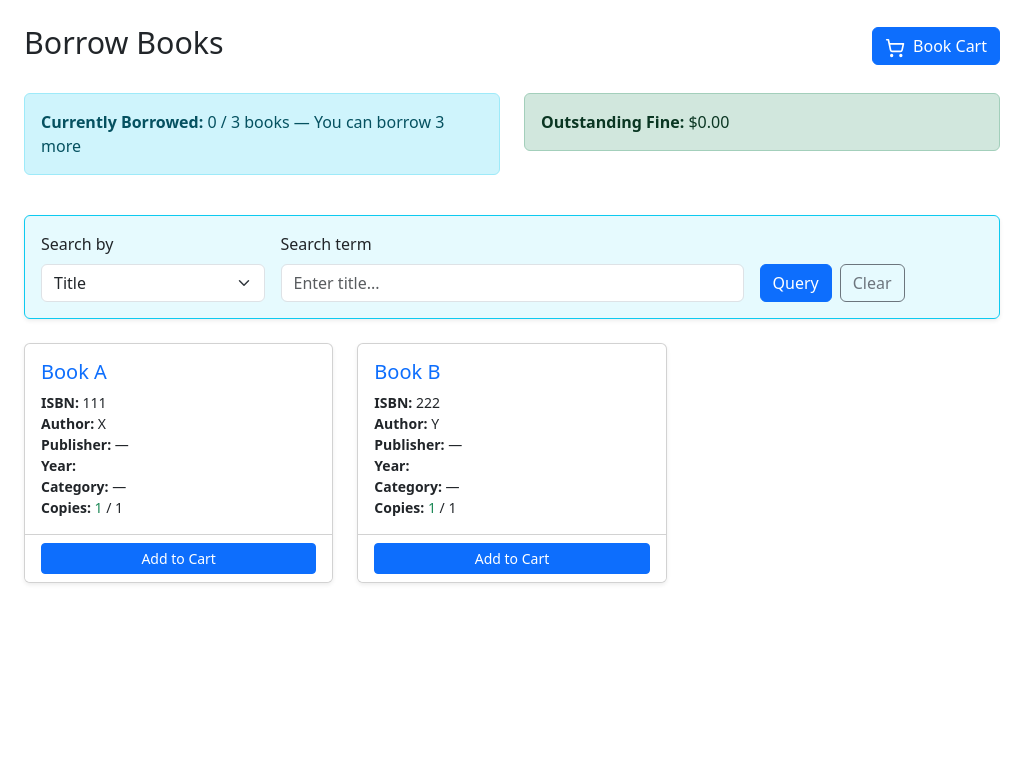
it: BorrowBooks › member borrows 2 books and removes 1 successfully from cart
Add both books
Click the button "Add to Cart" below "111". click: (179, 558)
box: [41,542,316,574]
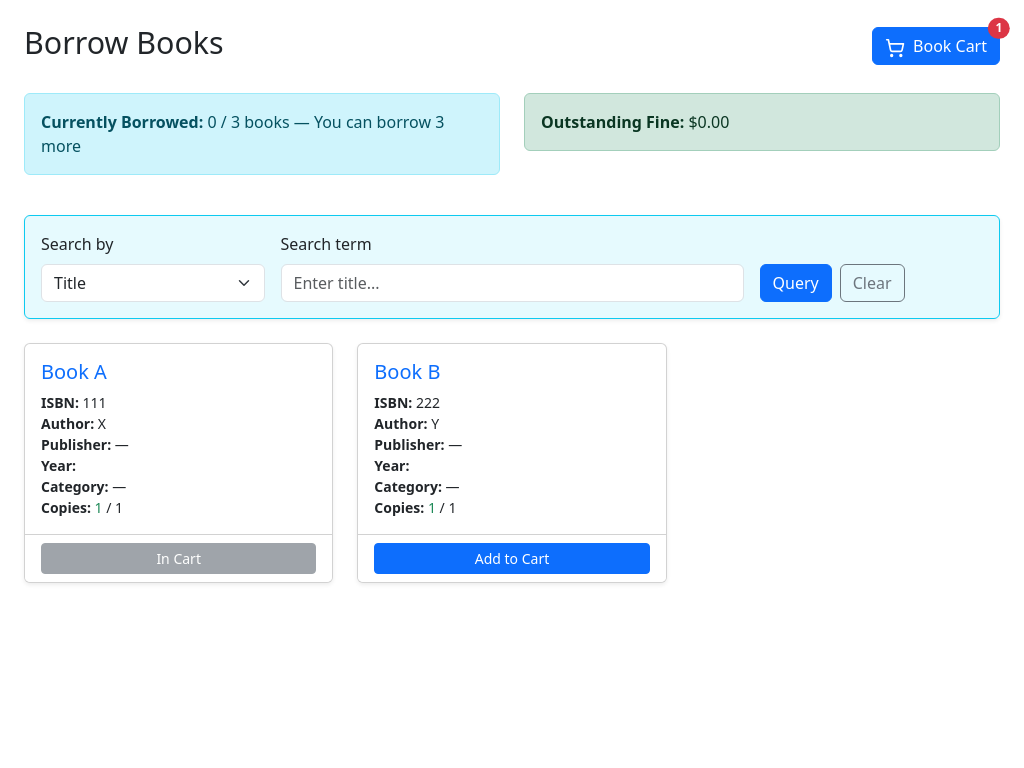
Click the button "Add to Cart". click: (512, 558)
box: [374,542,650,574]
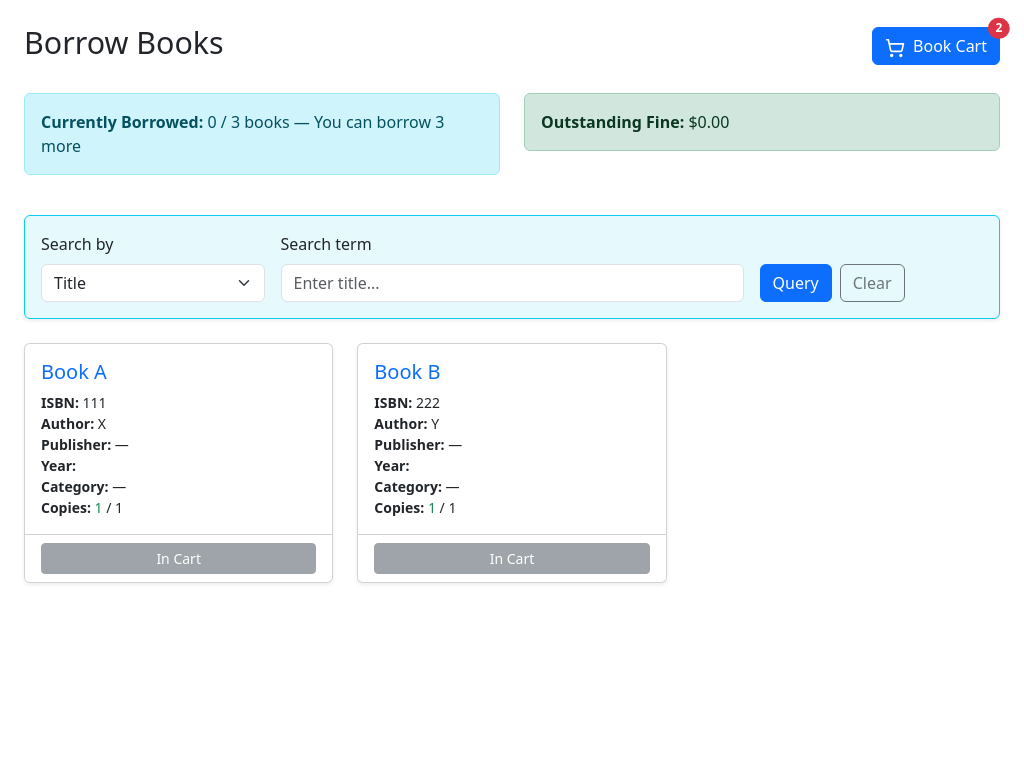
Open cart
Click the button "Book Cart 2". click: (936, 46)
box: [872,27,1000,65]
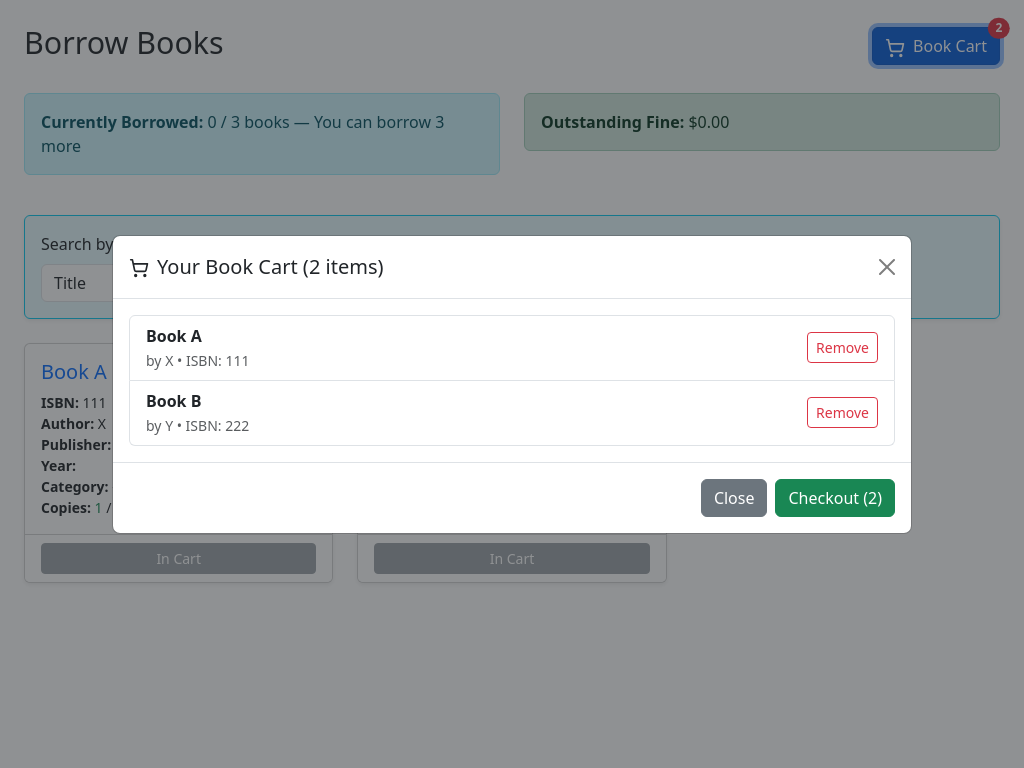
Expected: the number of headings "Book A" is 2, [41,358,107,384]; [146,324,202,346]
Remove Book A (first in cart)
Click the 1st button "Remove". click: (843, 348)
box: [807,332,878,363]
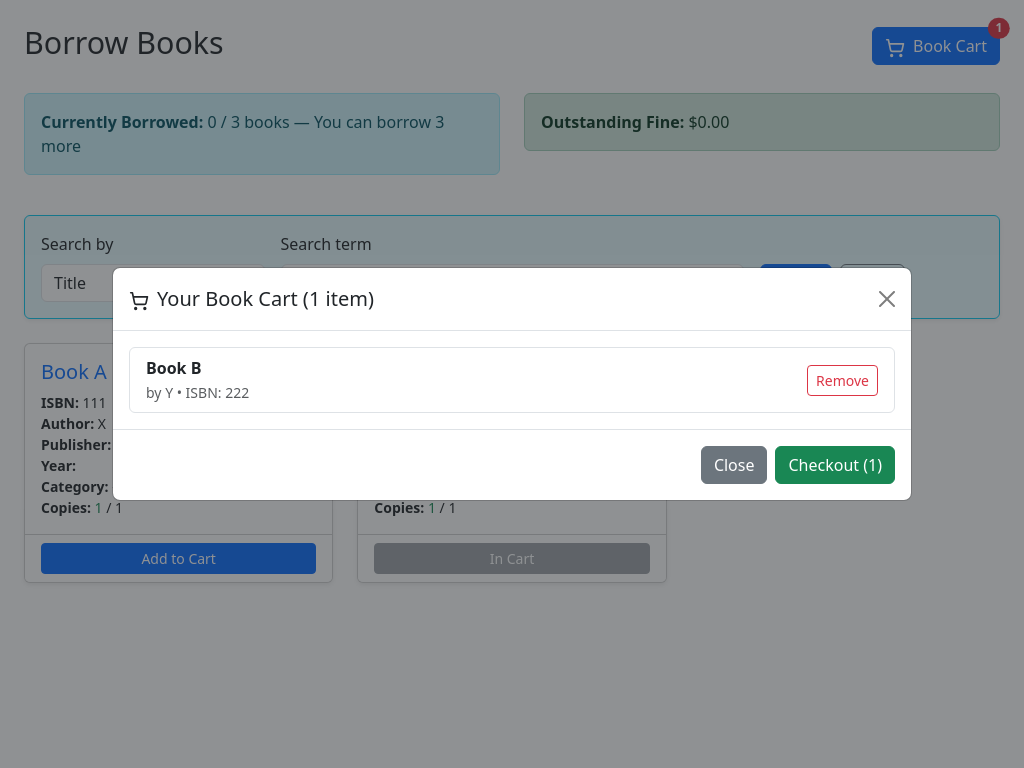
Expected: the number of headings "Book A" is 1, [41,358,107,384]
Result: the button "Book Cart 1" is shown at [872,27,1000,65]
